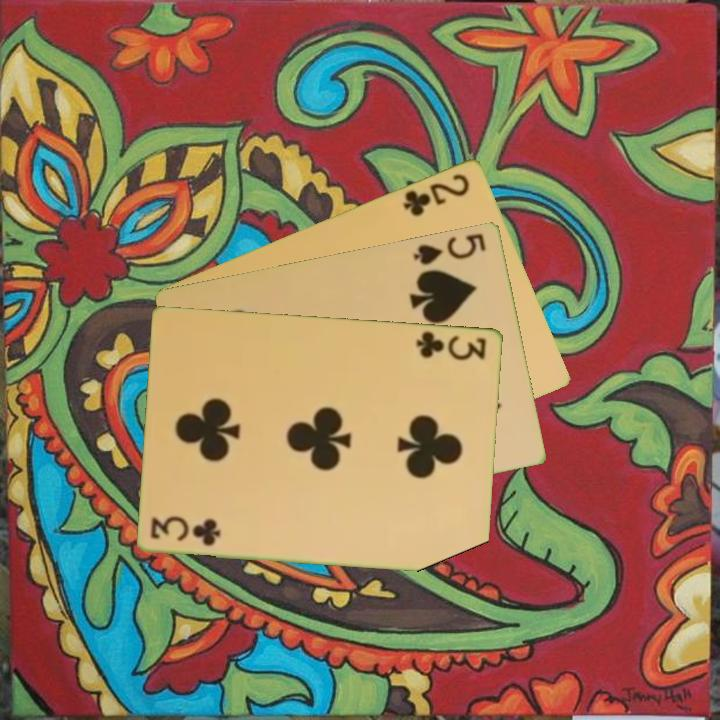2c: (399, 169, 473, 219)
3c: (413, 327, 489, 363), (147, 514, 224, 548)
5s: (410, 229, 489, 268)
